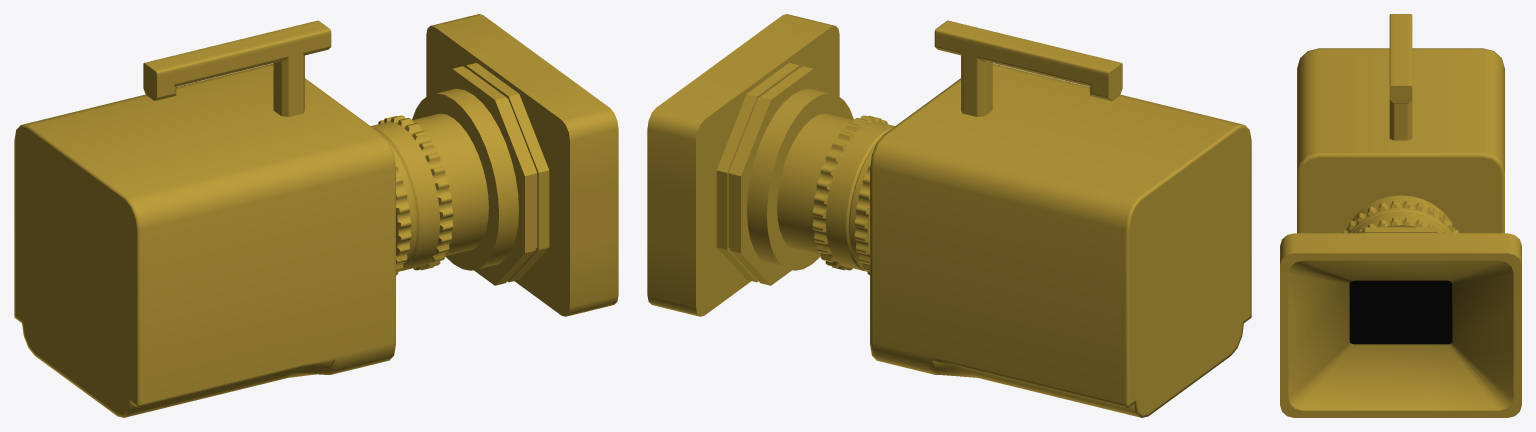
File: outro_camera.glb
3 views of the same model, side by side, from view 1: azimuth 30°, elevation 25°; view 2: azimuth 150°, elevation 25°; view 3: azimuth 270°, elevation 25° (orthographic). The views are drawn at different scales.
Visible parts, largest first — view 1: outro_camera; view 2: outro_camera; view 3: outro_camera.
Boxes of the visible parts, box(x1,y1,x2,y2) form: outro_camera: box(14, 14, 618, 417); outro_camera: box(647, 14, 1251, 417); outro_camera: box(1280, 14, 1521, 417).
Size of the model in its own units: 0.7155 by 0.4371 by 0.3785.
